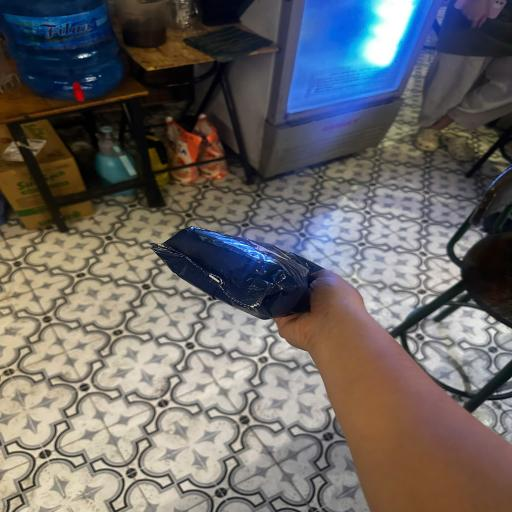cafe_hat: (152, 226, 322, 319)
